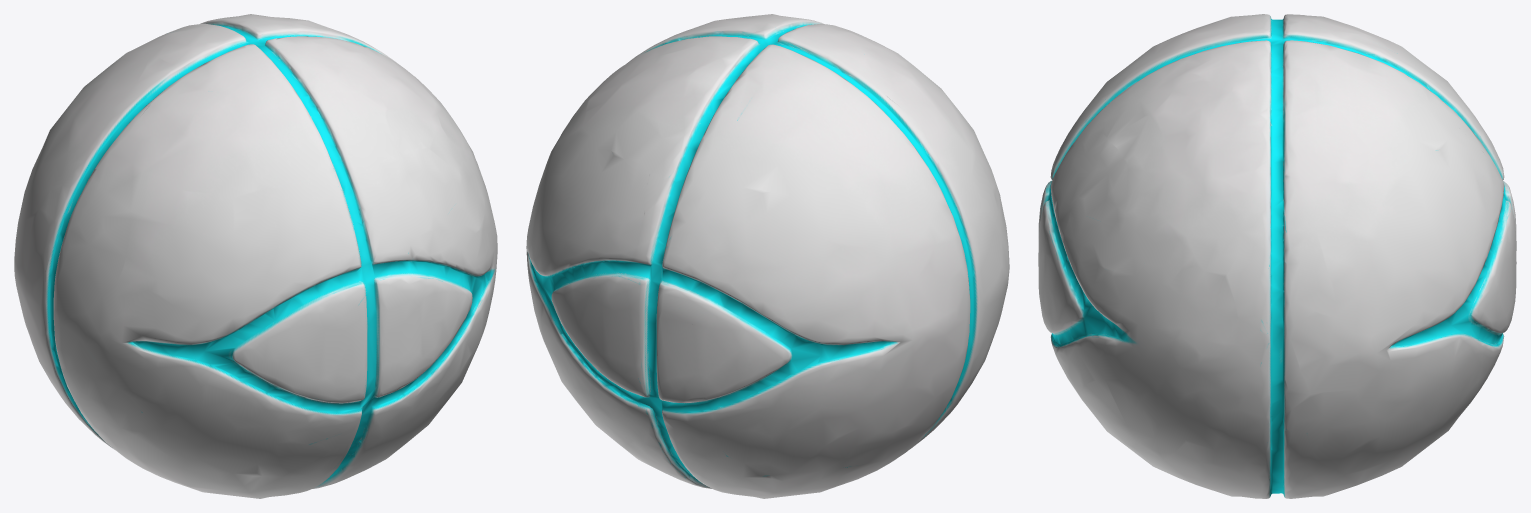
File: BallNormal.fbx
3 views of the same model, side by side, from view 1: azimuth 30°, elevation 25°; view 2: azimuth 150°, elevation 25°; view 3: azimuth 270°, elevation 25° (orthographic).
Parts seen in each view (by area): view 1: Meshy_AI_Cybersphere_0713212724_texture; view 2: Meshy_AI_Cybersphere_0713212724_texture; view 3: Meshy_AI_Cybersphere_0713212724_texture.
Boxes of the visible parts, x1,y1,x2,y2 form: Meshy_AI_Cybersphere_0713212724_texture: [14, 14, 497, 498]; Meshy_AI_Cybersphere_0713212724_texture: [526, 14, 1009, 498]; Meshy_AI_Cybersphere_0713212724_texture: [1038, 14, 1516, 498].
Size of the model in its own units: 0.9925 by 1 by 0.9844.
1 material, 1 textured.
